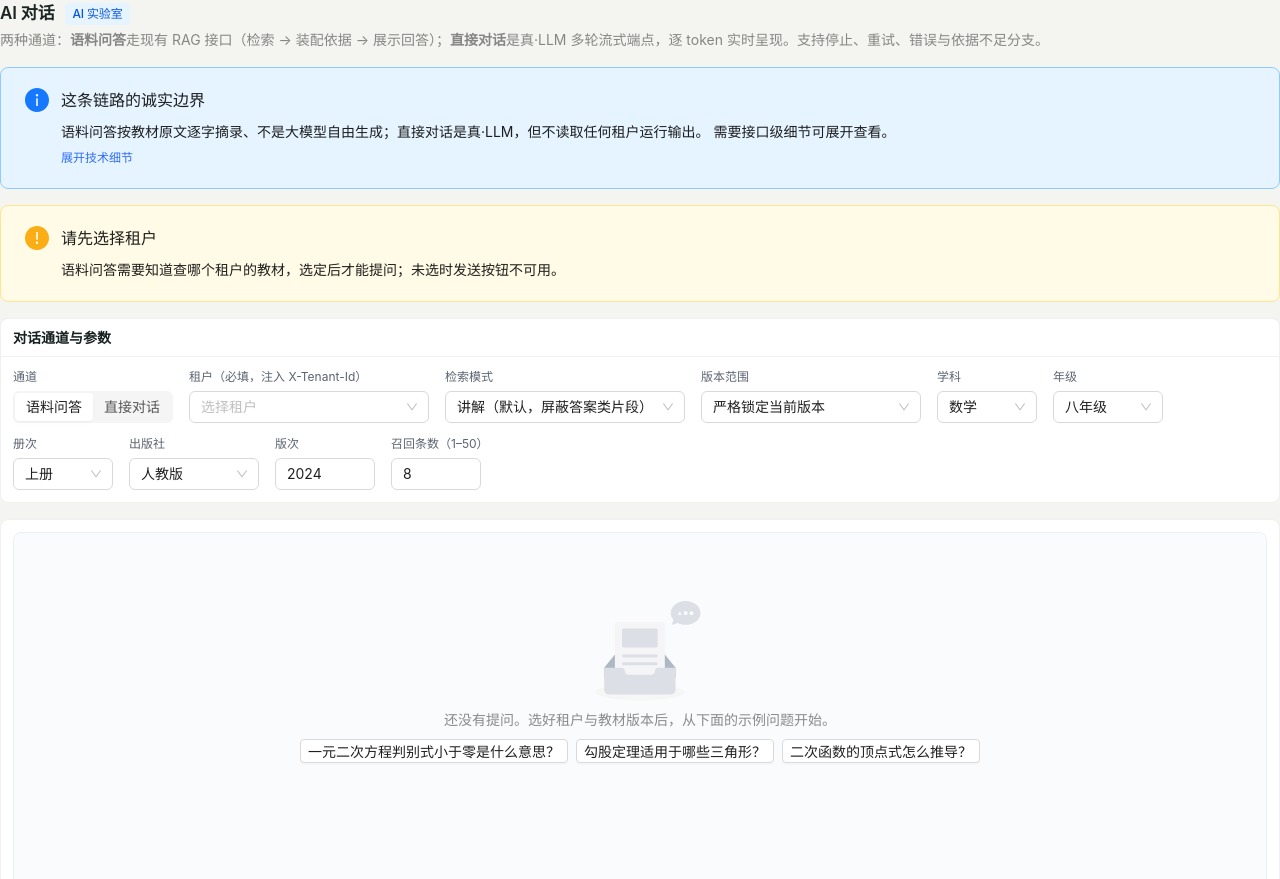
Test: AiChatPage · 完整问答流 › ✅ 依据不足是合法业务结果：显式标注「本回答无语料依据」，不报故障
Press the mouse on the element showing "选择租户" at (309,407), box x1=189 y1=391 x2=429 y2=423
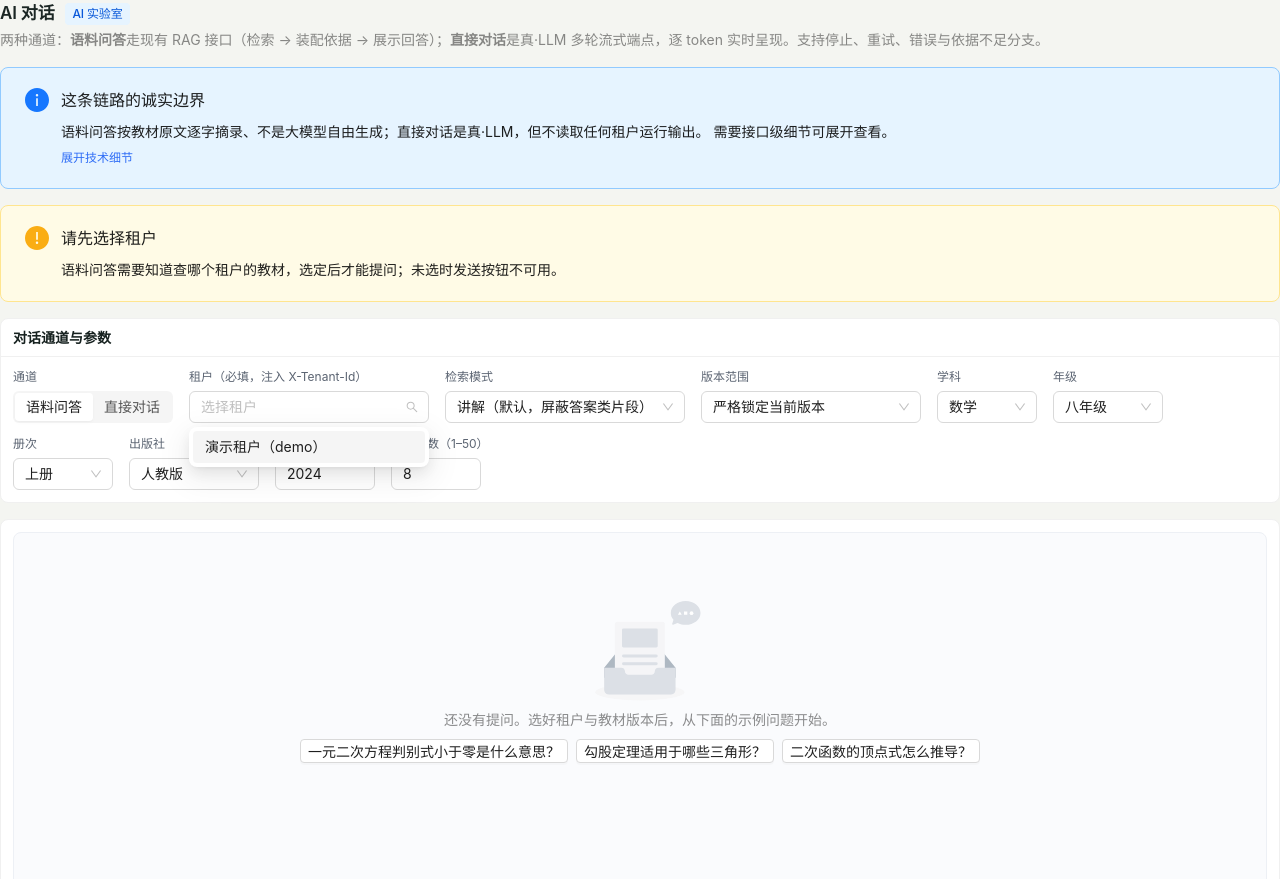
Now the element showing "演示租户（demo）" is shown
Click the element showing "演示租户（demo）".
click(309, 447)  # box x1=193 y1=431 x2=425 y2=463
(page scrolled)
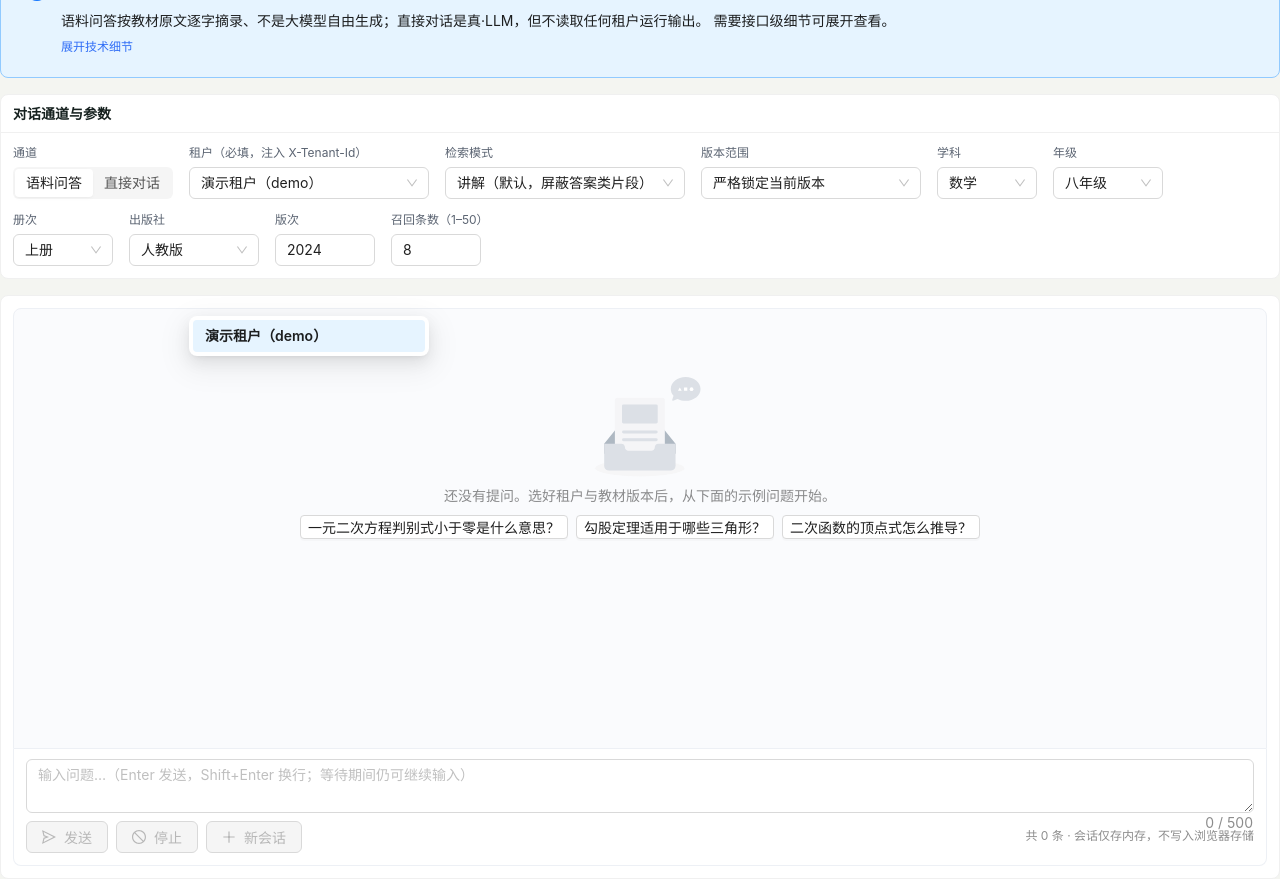
Type "一个语料里没有的问题" into the text box with placeholder "输入问题…（Enter 发送，Shift+Enter 换行；等待期间仍可继续输入）".
click(640, 786); type("一个语料里没有的问题")  # box x1=27 y1=760 x2=1253 y2=812
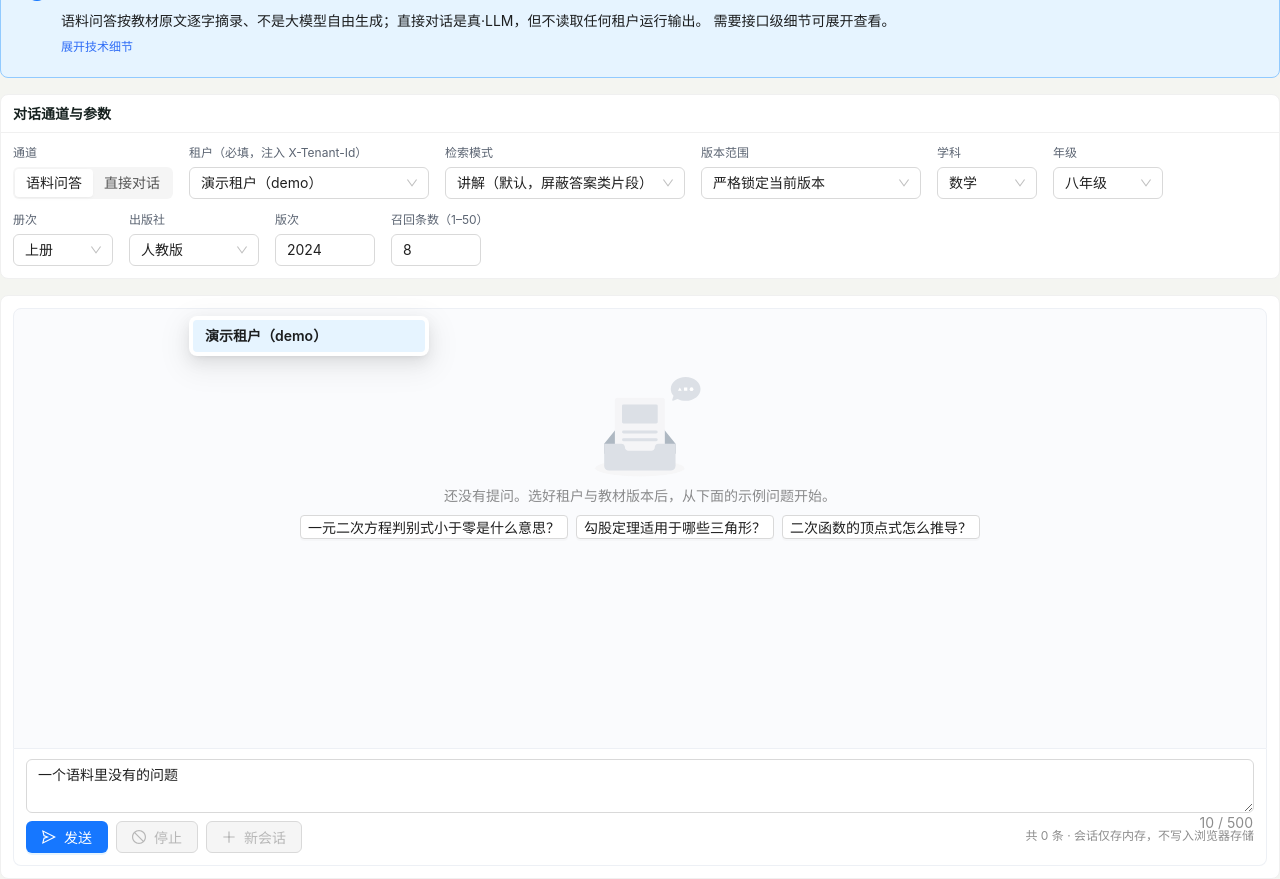
Now the button "发送" is enabled
Click the button "发送".
click(67, 837)  # box x1=26 y1=821 x2=108 y2=853
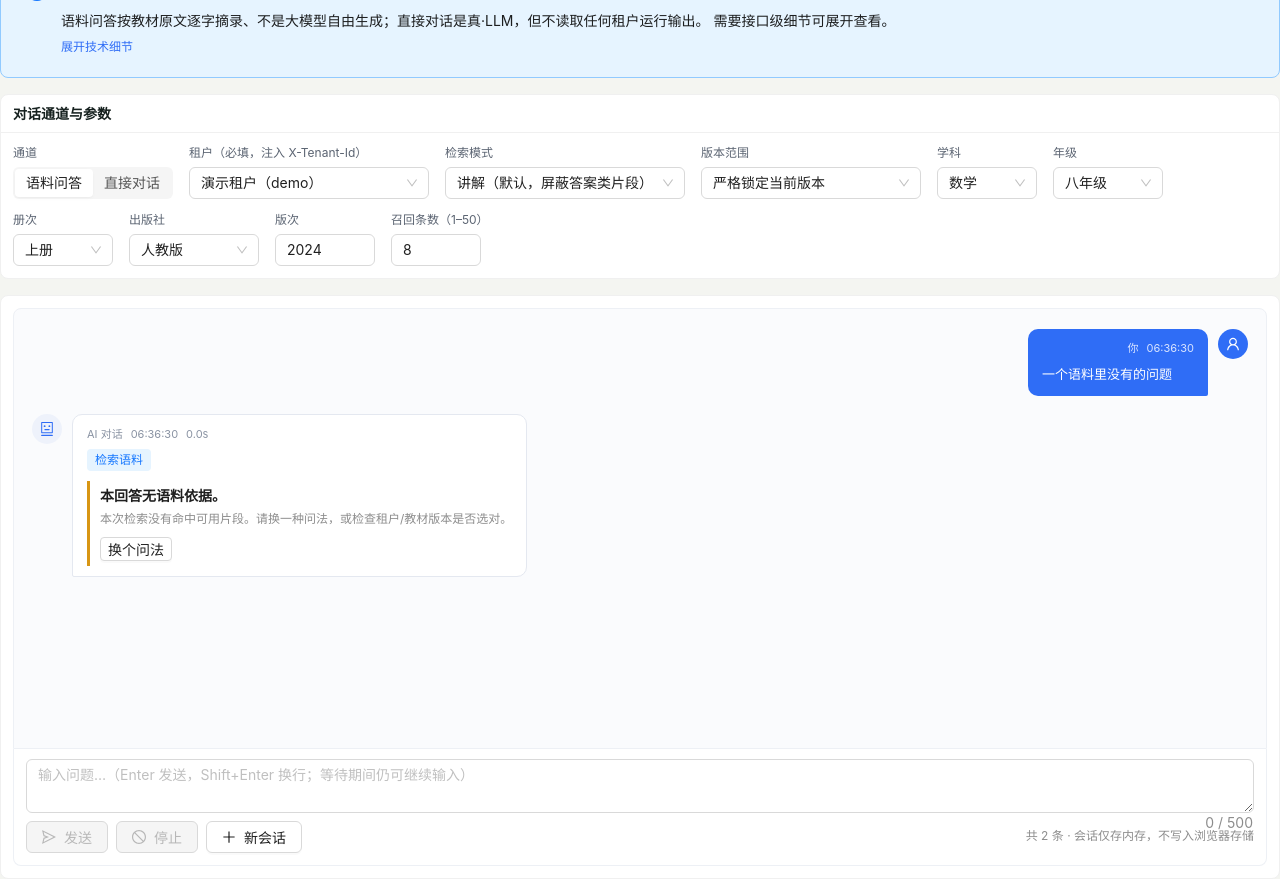
Now the text "本回答无语料依据。" is shown, box x1=100 y1=487 x2=226 y2=504
